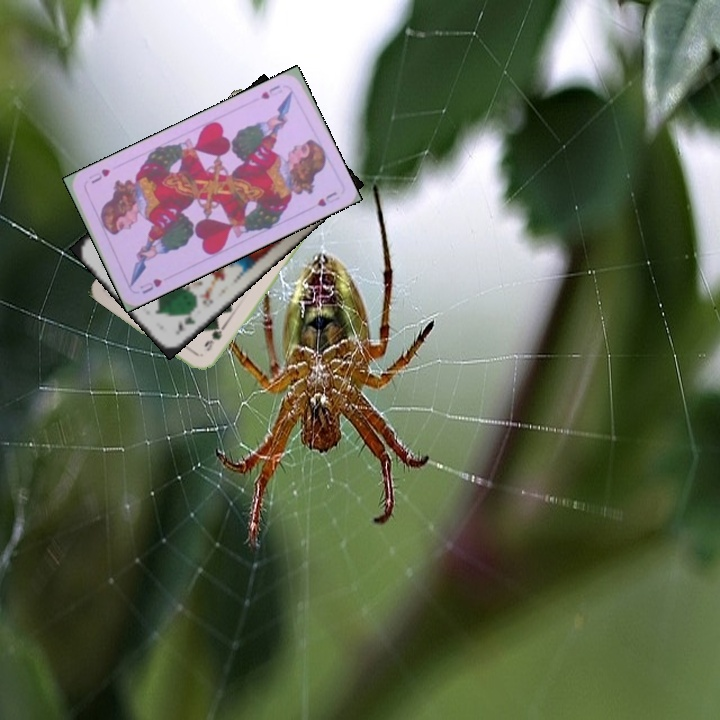G9: (201, 323, 225, 354)
GK: (170, 304, 198, 337)
HU: (136, 274, 165, 297), (256, 81, 285, 102)
